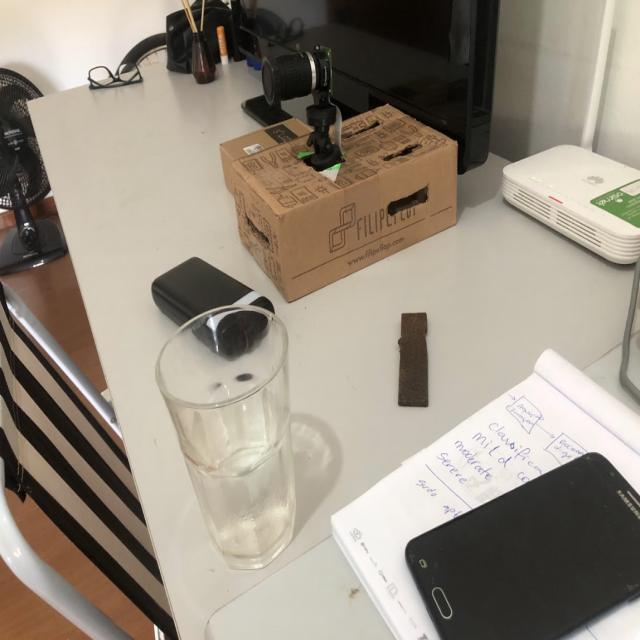Corrosion: (219, 101, 458, 302), (396, 311, 429, 407)
